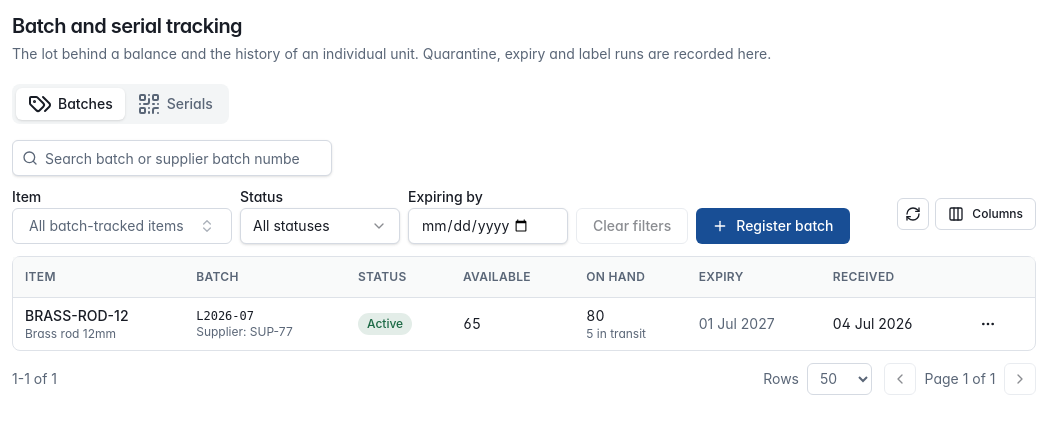
Test: batch tracking › does not offer activating a lot that is already active
Expected: the text "L2026-07" is shown, 196,308 -> 254,322
Click the button named "actions for batch L2026-07": (988,324) 972,308 -> 1004,340
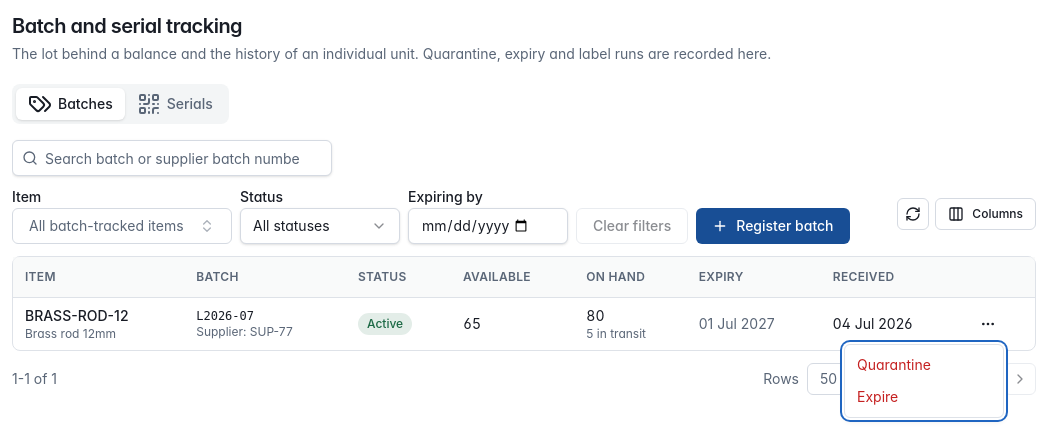
Result: the menu item "Quarantine" is shown at 857,356 -> 931,373
